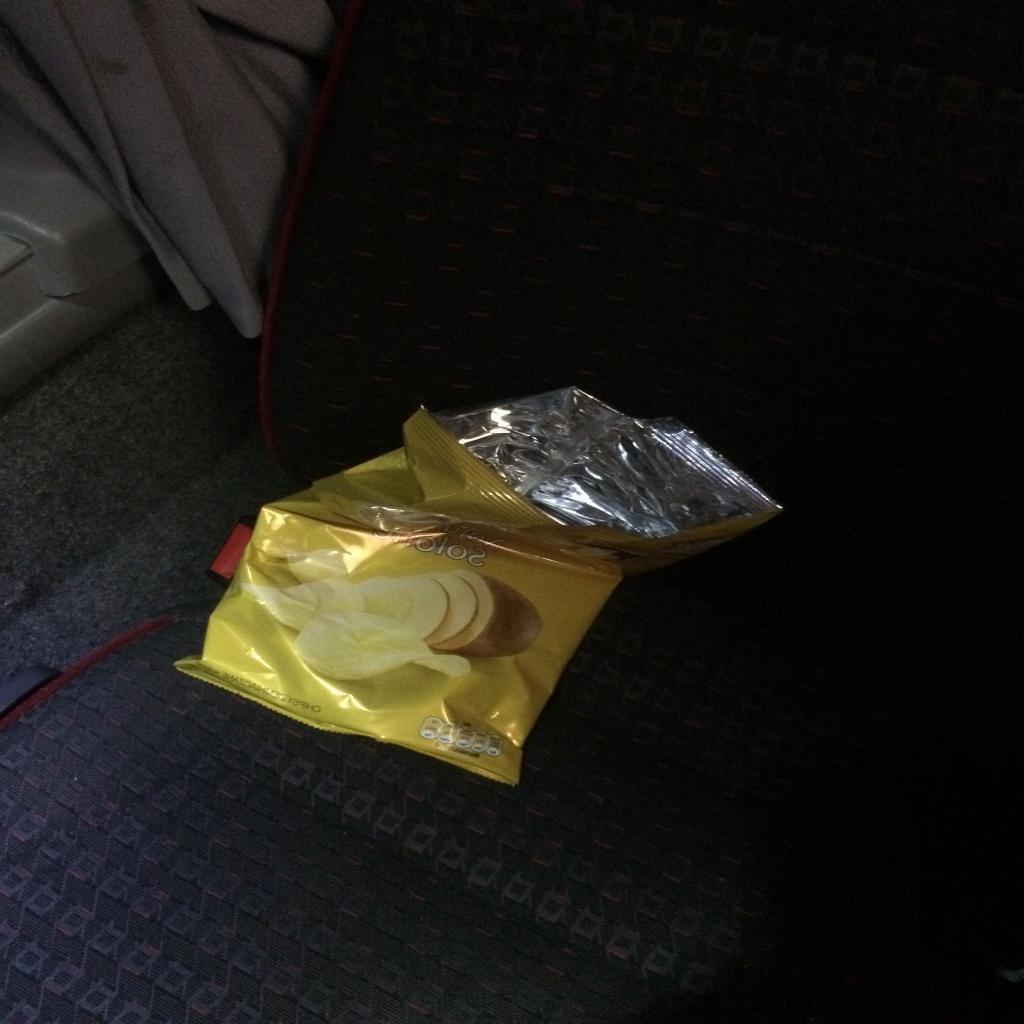Crisp packet: (174, 384, 786, 786)
